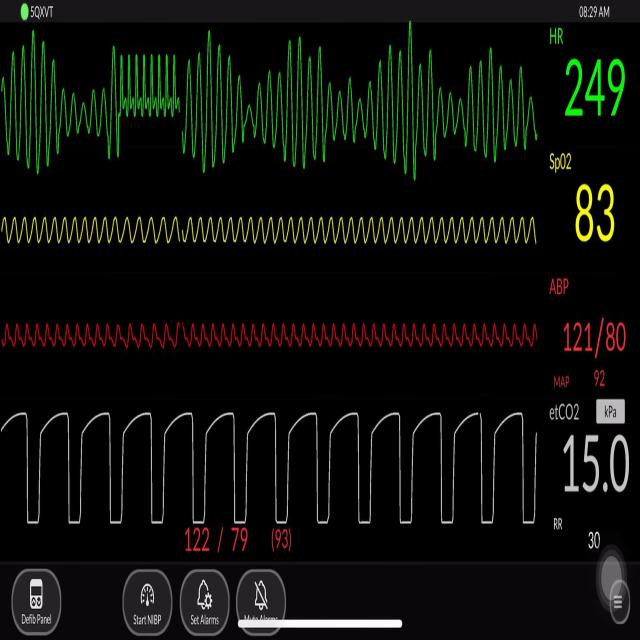danger: (188, 25, 541, 186), (9, 34, 110, 175), (122, 45, 184, 121)
